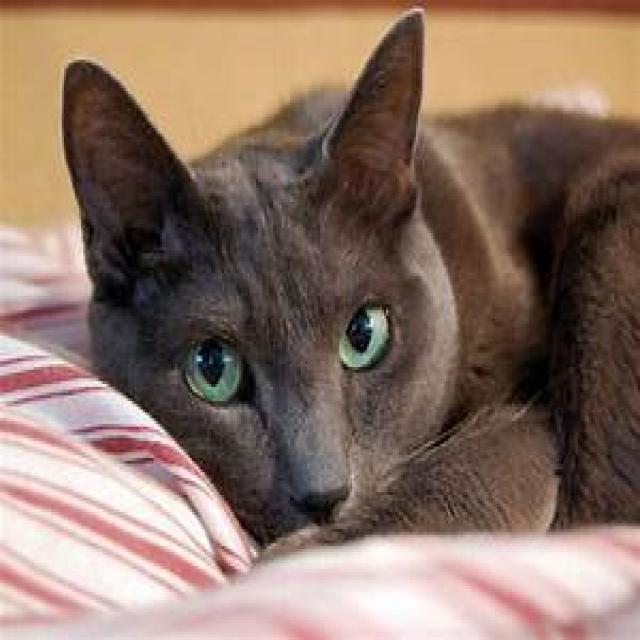cat: (57, 3, 638, 566)
